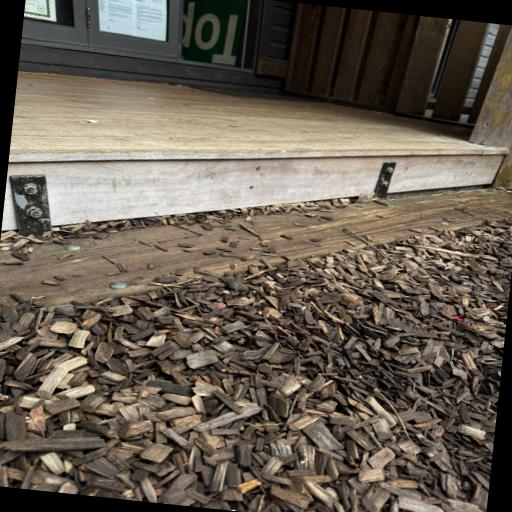step: (0, 145, 512, 327)
